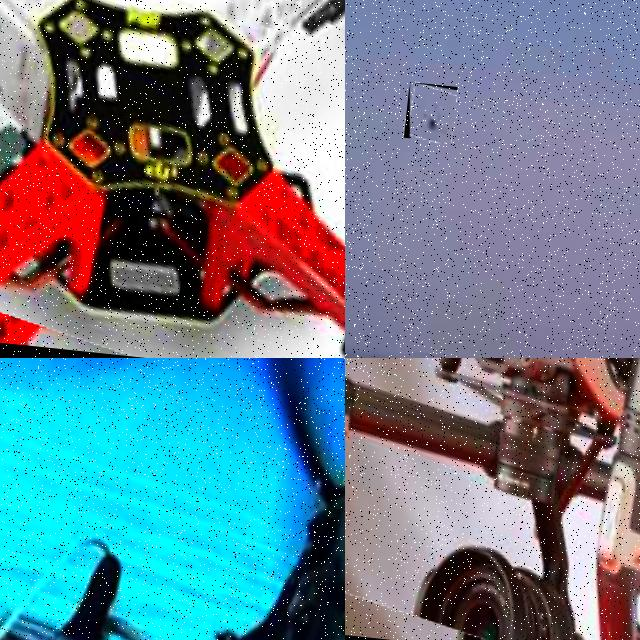drone: (0, 0, 345, 358), (0, 358, 345, 640), (345, 358, 640, 640), (403, 82, 457, 143)
